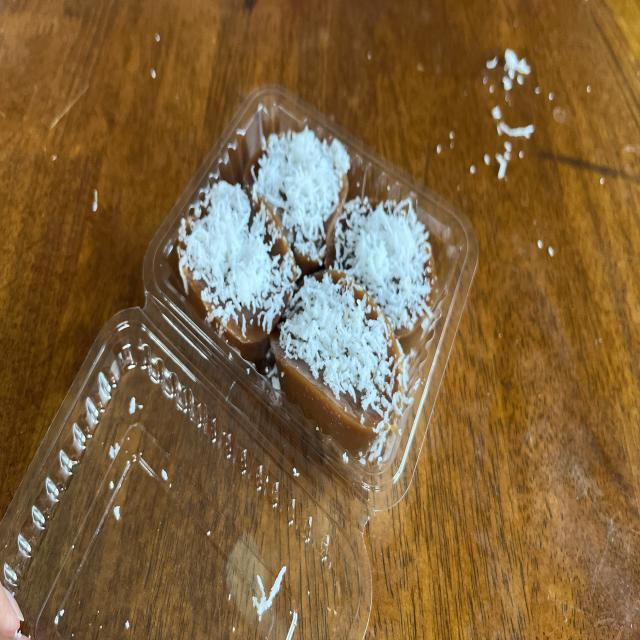Kuih lompang: (270, 269, 405, 453), (178, 180, 300, 360), (325, 198, 435, 353), (254, 127, 350, 273)
